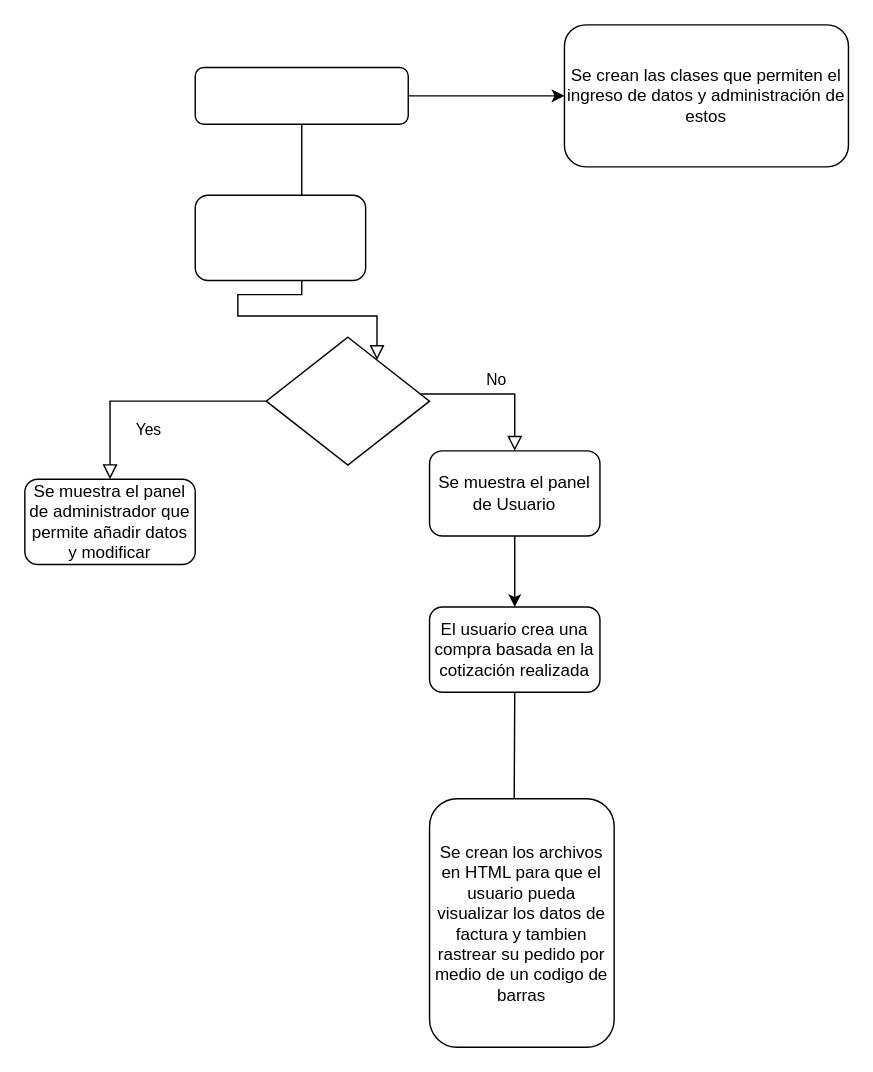
Some shapes in this 873 by 1072 pixel diagram are drawn without their labels. Here are the shapes that lost their labels. From the top down, the centre of each, then its label:
At (301,95): "Inicio Proyecto".
At (280,237): "Se muestra una pantalla que permite el ingreso de datos de usuario".
At (347,400): "Es administador".
